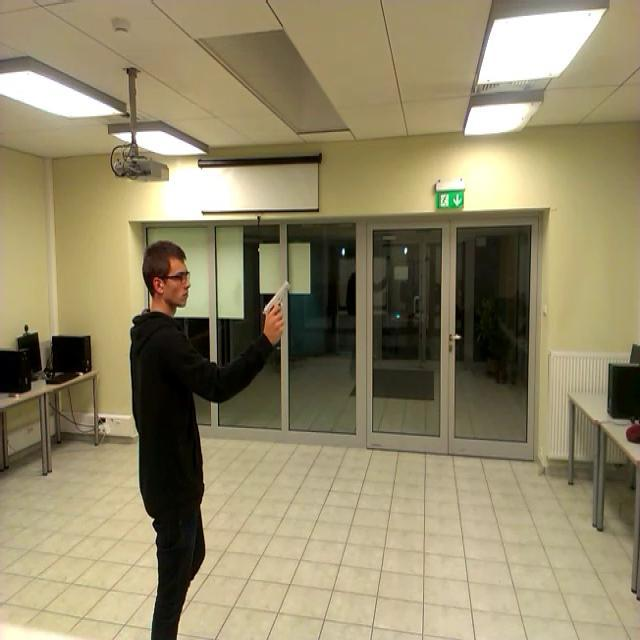Gun: (256, 268, 306, 324)
